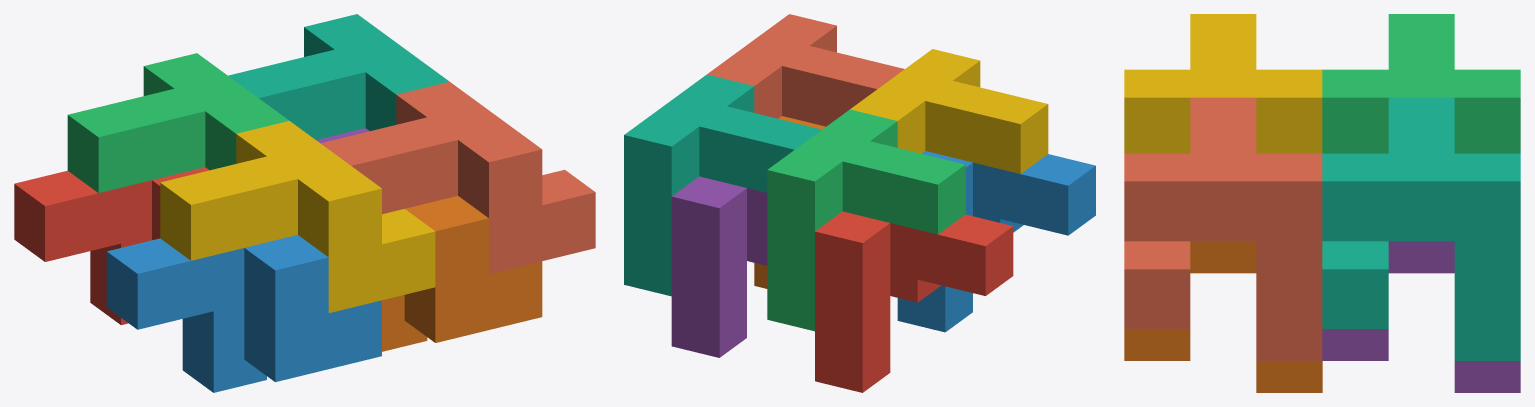
The model's file is tiling.obj.
3 views of the same model, side by side, from view 1: azimuth 30°, elevation 25°; view 2: azimuth 150°, elevation 25°; view 3: azimuth 270°, elevation 25° (orthographic). The views are drawn at different scales.
Parts seen in each view (by area): view 1: copy_1_domain_2, copy_1_domain_4, copy_1_domain_8, copy_1_domain_3, copy_1_domain_7, copy_1_domain_6, copy_1_domain_1; view 2: copy_1_domain_3, copy_1_domain_1, copy_1_domain_7, copy_1_domain_5, copy_1_domain_4, copy_1_domain_8, copy_1_domain_2, copy_1_domain_6; view 3: copy_1_domain_7, copy_1_domain_8, copy_1_domain_3, copy_1_domain_4, copy_1_domain_5, copy_1_domain_6.
Part boxes in pixels (x1,y1,x2,y2): copy_1_domain_2: [106, 235, 381, 392]; copy_1_domain_4: [160, 121, 435, 312]; copy_1_domain_8: [321, 81, 595, 273]; copy_1_domain_3: [67, 53, 288, 192]; copy_1_domain_7: [228, 14, 449, 139]; copy_1_domain_6: [382, 196, 542, 351]; copy_1_domain_1: [14, 167, 209, 325]; copy_1_domain_3: [767, 109, 965, 331]; copy_1_domain_1: [815, 211, 1013, 392]; copy_1_domain_7: [624, 74, 821, 296]; copy_1_domain_5: [671, 176, 767, 357]; copy_1_domain_4: [850, 49, 1048, 173]; copy_1_domain_8: [707, 14, 904, 126]; copy_1_domain_2: [897, 151, 1095, 332]; copy_1_domain_6: [754, 116, 825, 288]; copy_1_domain_7: [1322, 97, 1520, 360]; copy_1_domain_8: [1124, 97, 1322, 360]; copy_1_domain_3: [1322, 14, 1520, 153]; copy_1_domain_4: [1124, 14, 1322, 153]; copy_1_domain_5: [1322, 241, 1520, 392]; copy_1_domain_6: [1124, 241, 1322, 392].
Size of the model in its own units: 8 by 4 by 6.
